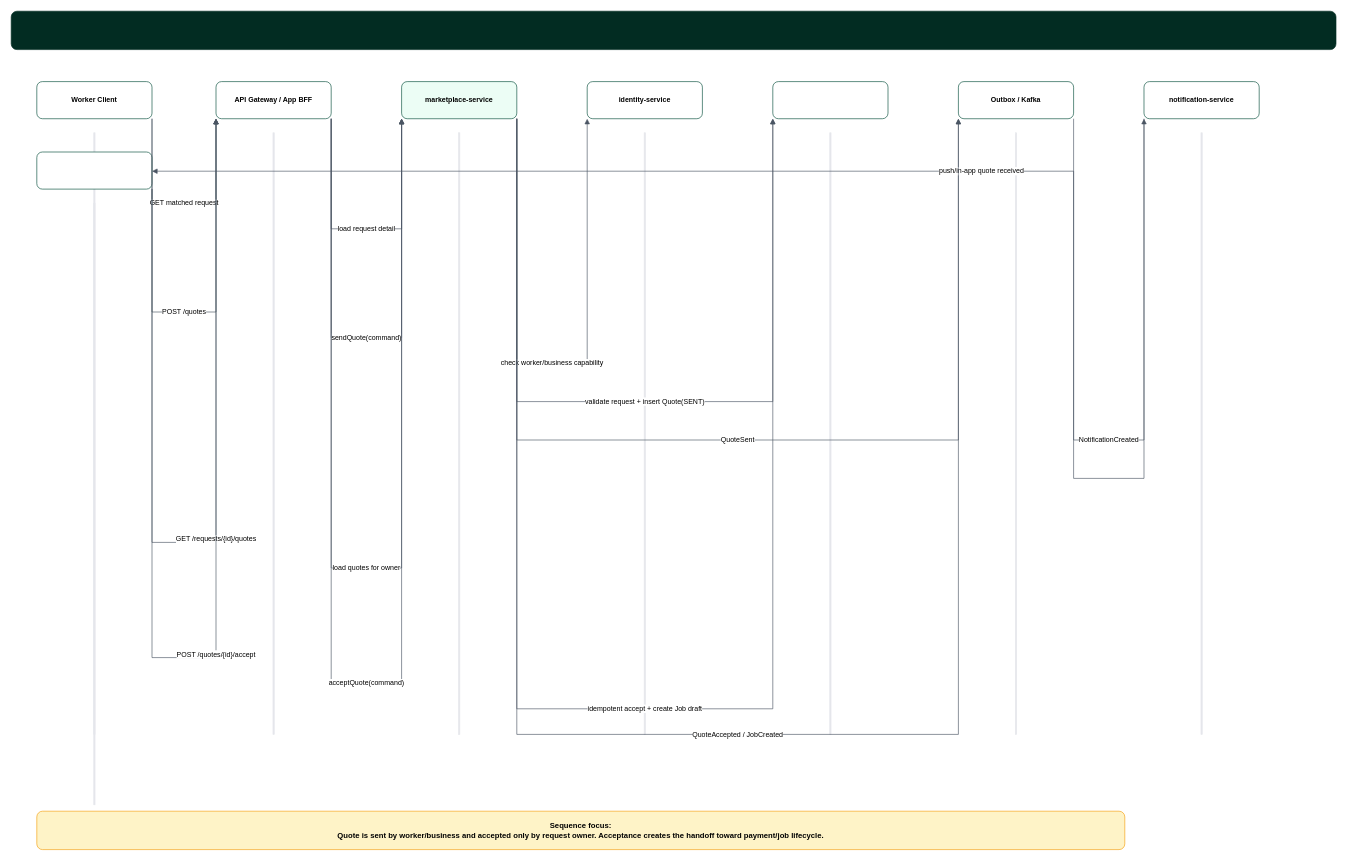
The diagram is 1347 pixels wide and 861 high, and some of its shapes have lost their labels. The box of each missing label's shape, as (x1, y1, x2, y2) in pixels:
PostgreSQL: (772, 81, 888, 119)
Requester Client: (36, 151, 152, 189)
Viaverse Quote / Offer — Sequence Diagram: (11, 11, 1336, 50)
